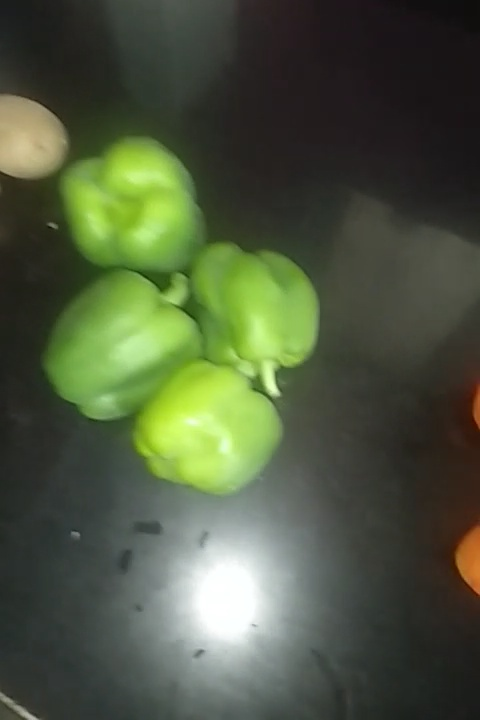capsicum: (49, 270, 197, 406), (143, 359, 289, 496), (60, 146, 204, 279), (188, 241, 318, 383)
potato: (1, 92, 71, 190)
